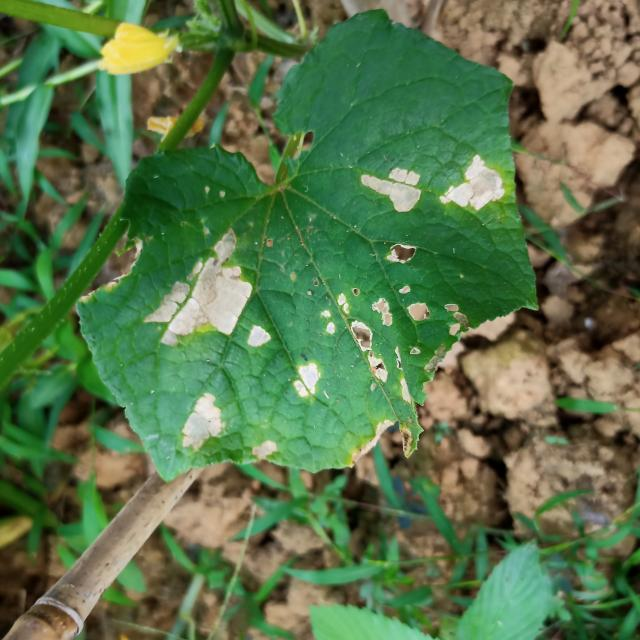disease_cucumber: (154, 202, 324, 476), (328, 241, 461, 406), (348, 146, 508, 238)
